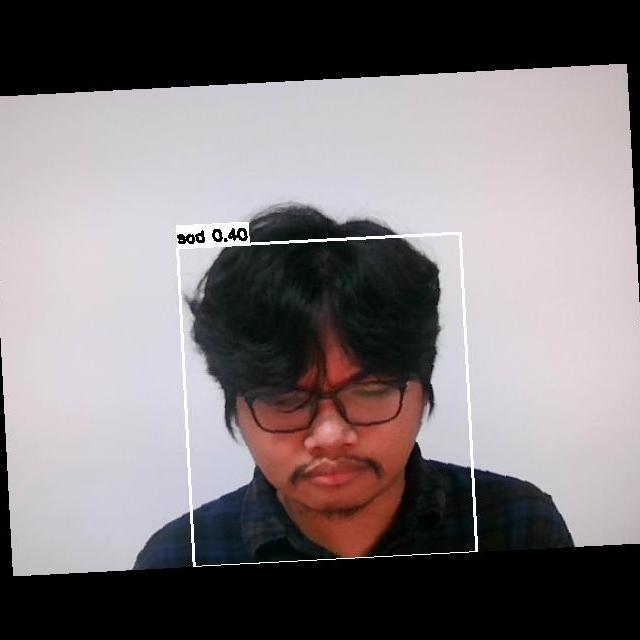Angry: (242, 354, 422, 495)
